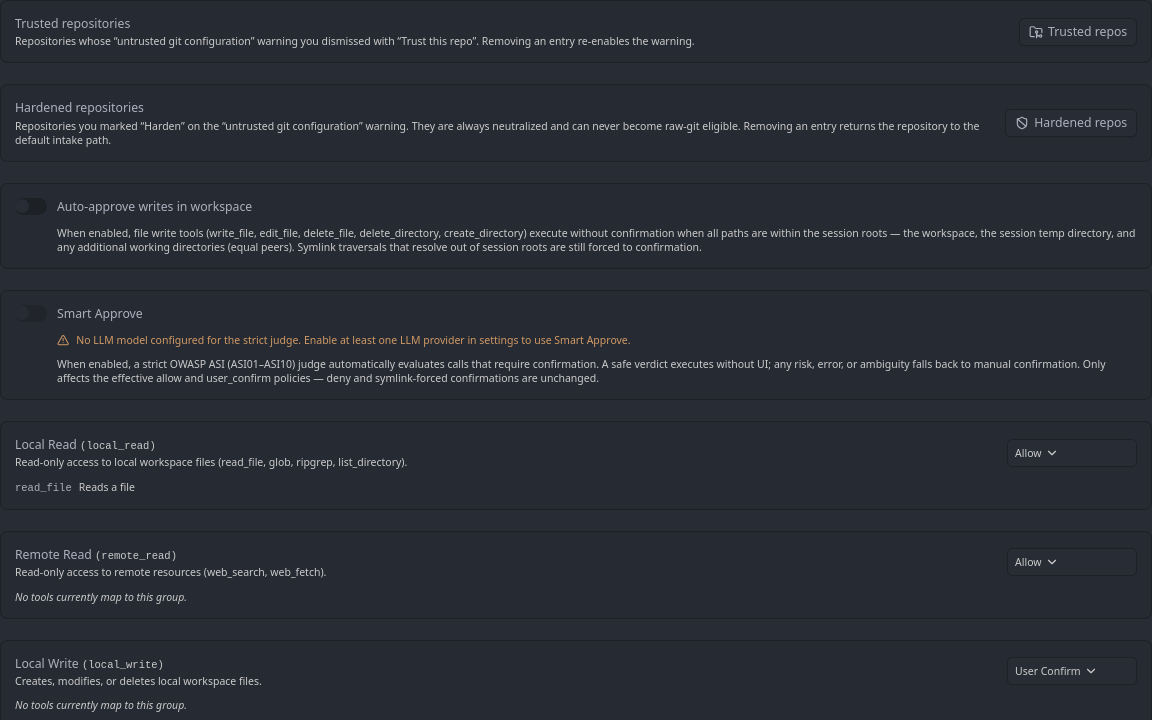
SecuritySettings — group schema › opens the trusted repositories dialog from the Trusted repos button
The width and height of the screenshot is (1152, 720).
Click the button with test id "trusted-repos-open": (1078, 32) [1019,18,1137,46]
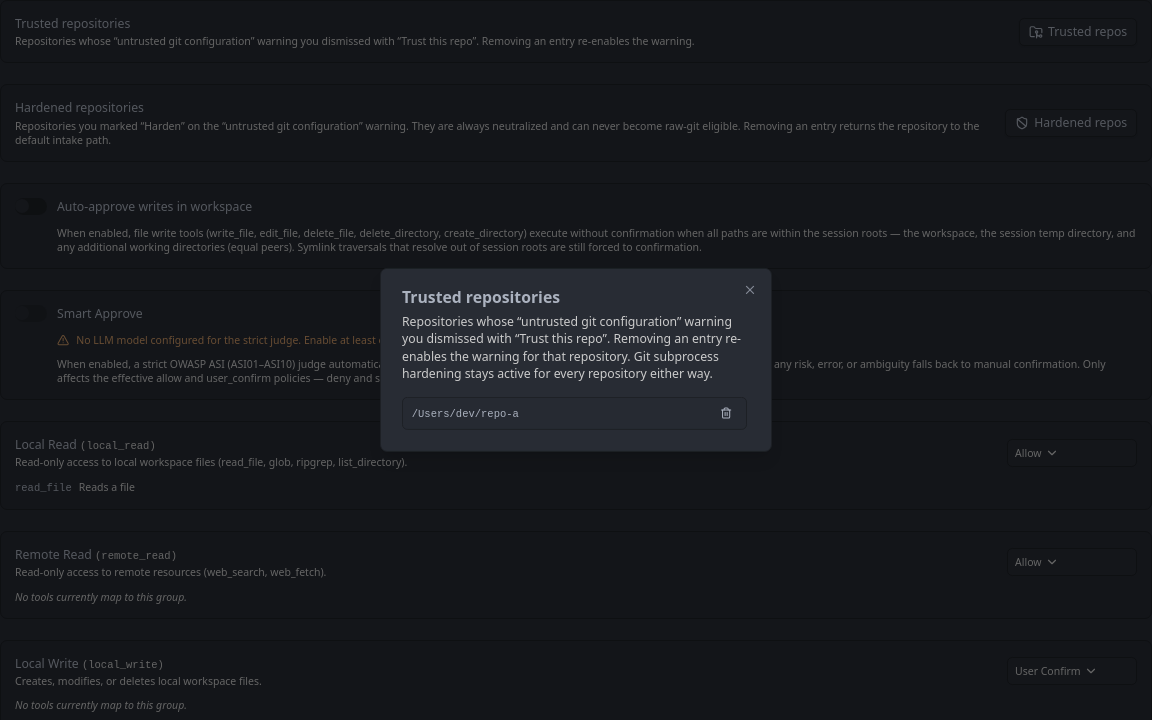
Check: the dialog with test id "trusted-repos-dialog" shows "/Users/dev/repo-a", box [412,407,519,419]
